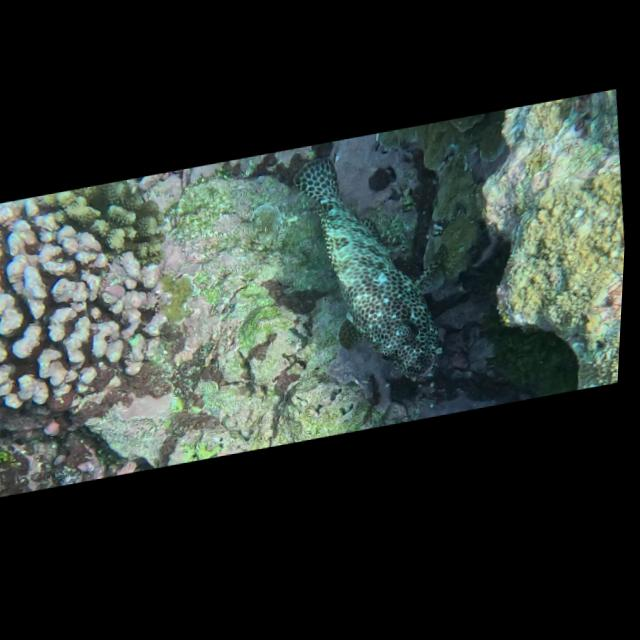Groupers: (281, 136, 463, 401)
